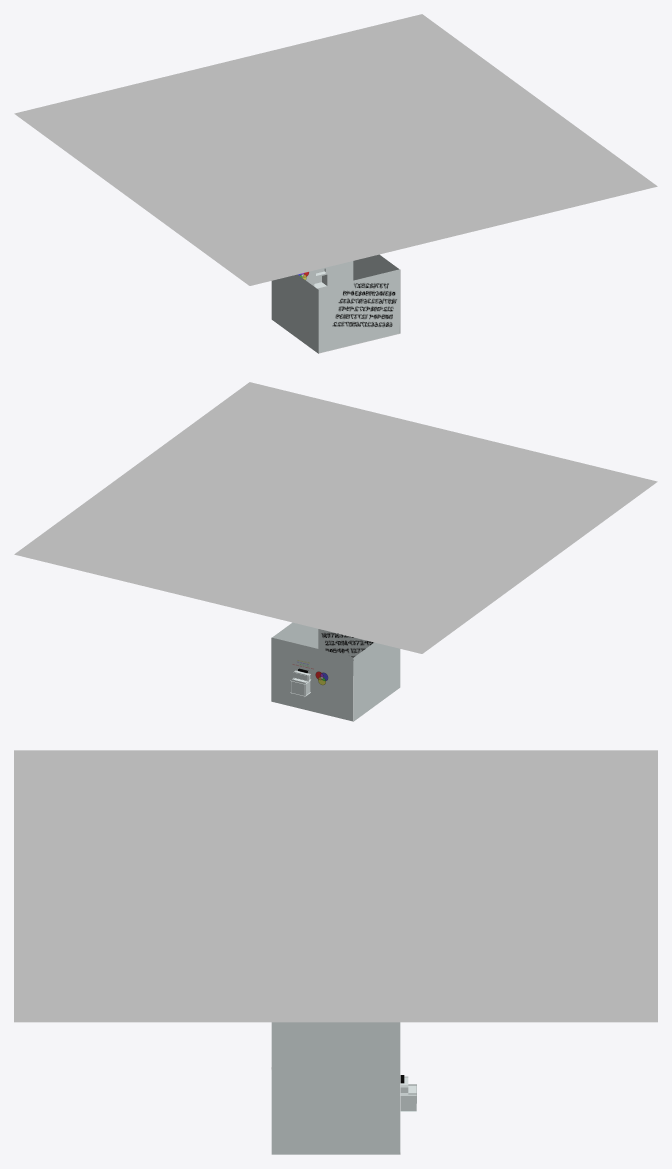
The model's file is Room.fbx.
3 views of the same model, one above another, from view 1: azimuth 30°, elevation 25°; view 2: azimuth 150°, elevation 25°; view 3: azimuth 270°, elevation 25° (orthographic). The views are drawn at different scales.
Visible parts, largest first — view 1: ceiling, front wall, right wall, left wall, back wall; view 2: ceiling, back wall, right wall, front wall, left wall; view 3: ceiling, left wall, right wall.
Part boxes in pixels (x1,y1,x2,y2): ceiling: [14, 14, 657, 285]; front wall: [318, 269, 399, 352]; right wall: [271, 274, 318, 353]; left wall: [353, 254, 400, 333]; back wall: [298, 261, 353, 289]; ceiling: [14, 382, 657, 653]; back wall: [271, 637, 352, 721]; right wall: [353, 642, 400, 721]; front wall: [318, 629, 373, 675]; left wall: [272, 622, 318, 648]; ceiling: [14, 750, 657, 1022]; left wall: [271, 1067, 400, 1154]; right wall: [271, 1022, 400, 1067].
Bounding box in the file's own units: 500 × 207 × 500.
